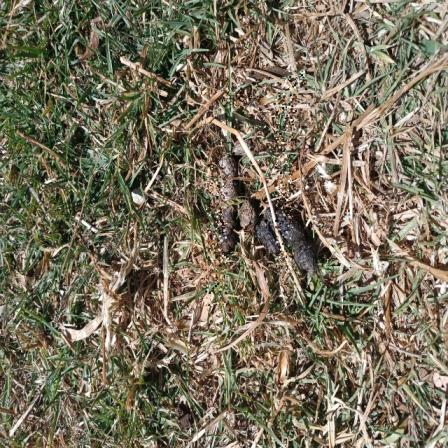dog-poop: (258, 194, 314, 271), (208, 150, 248, 244)
